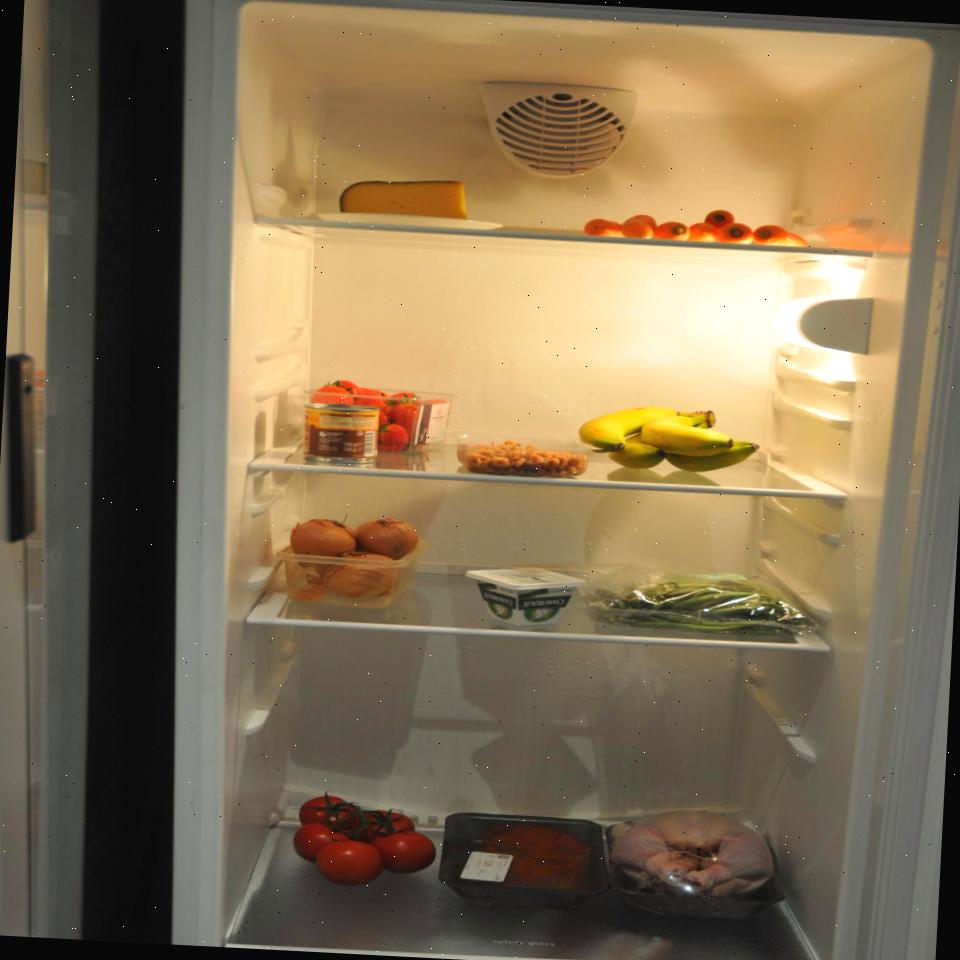Carne pollo: (604, 804, 792, 922)
Plátano: (570, 396, 760, 479)
Queso: (334, 173, 480, 228)
Tomate: (287, 786, 440, 890)
Zanahoria: (574, 198, 815, 255)
strawberries: (306, 382, 456, 466)
